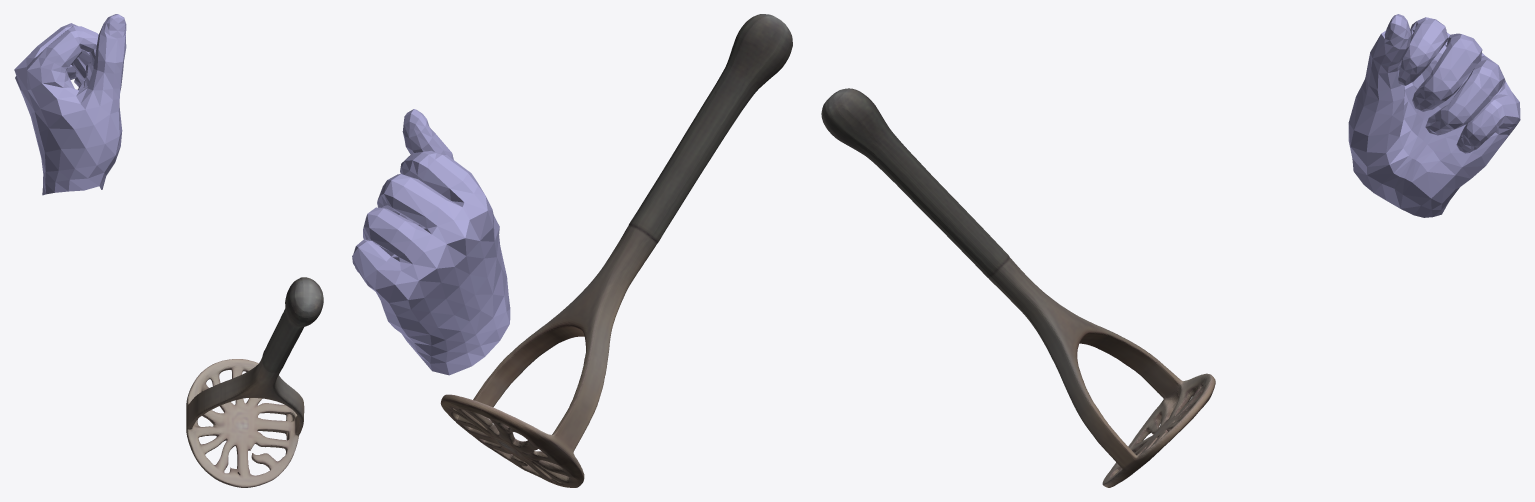
Rendered from frame_0051_source_000051_hand_object.glb.
The picture shows the model from 3 angles, left to right: view 1: azimuth 30°, elevation 25°; view 2: azimuth 150°, elevation 25°; view 3: azimuth 270°, elevation 25°; orthographic projection. The views are drawn at different scales.
Parts seen in each view (by area): view 1: world; view 2: world; view 3: world.
Part boxes in pixels (<box>): world: <box>14,14,323,487</box>; world: <box>352,14,792,487</box>; world: <box>821,14,1520,487</box>.
Size of the model in its own units: 0.1076 by 0.2667 by 0.3694.
